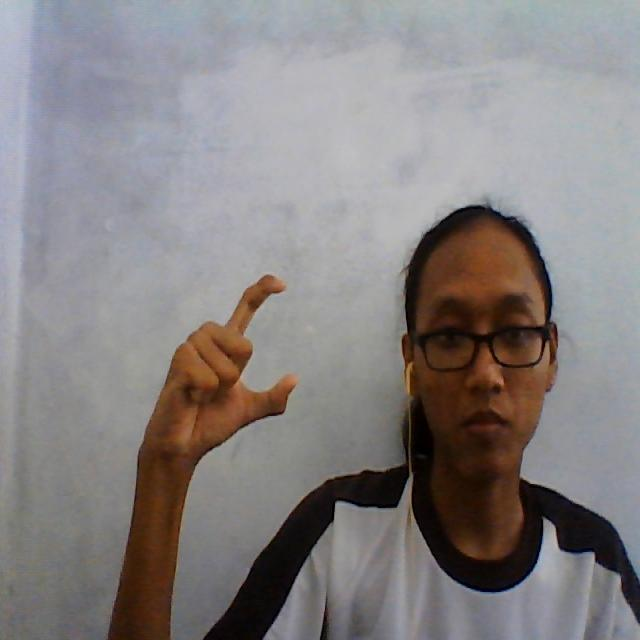C: (176, 269, 323, 457)
